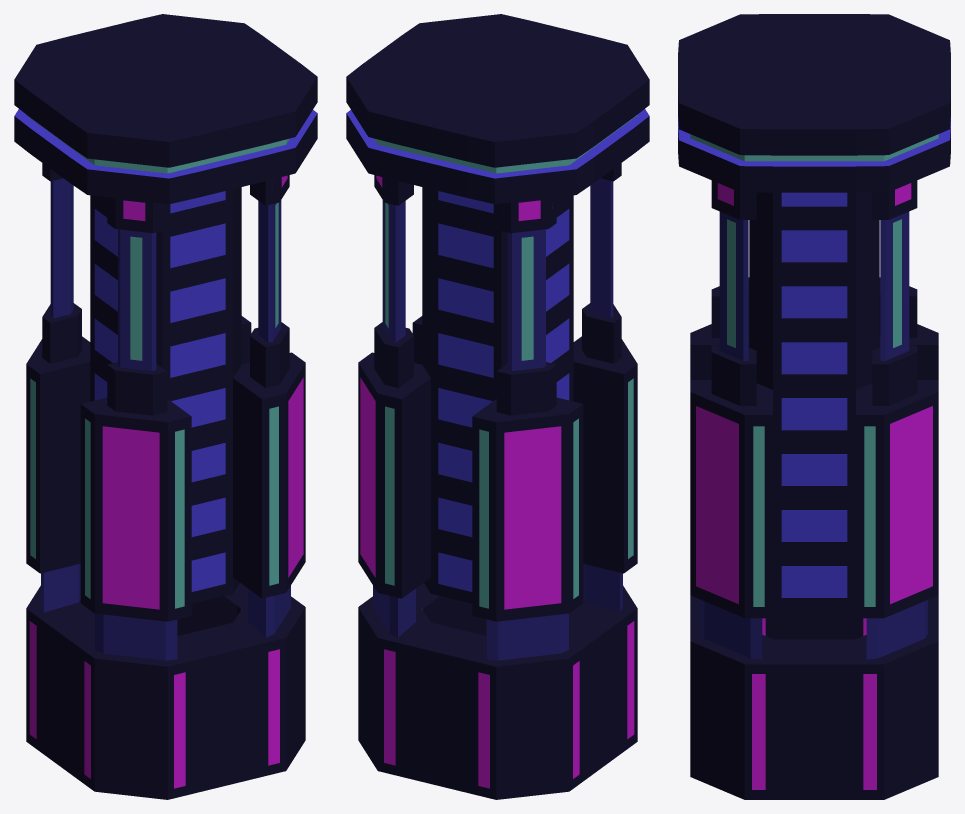
The model's file is SM_Building_02.fbx.
3 views of the same model, side by side, from view 1: azimuth 30°, elevation 25°; view 2: azimuth 150°, elevation 25°; view 3: azimuth 270°, elevation 25° (orthographic).
Parts seen in each view (by area): view 1: building_08.002; view 2: building_08.002; view 3: building_08.002.
Boxes of the visible parts, x1,y1,x2,y2 form: building_08.002: (14, 14, 317, 799); building_08.002: (346, 14, 649, 799); building_08.002: (678, 14, 950, 799).
Size of the model in its own units: 4.39 by 12 by 4.39.
